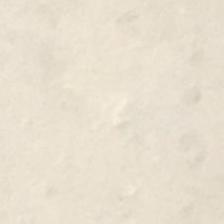Non_Crack: (17, 26, 173, 179)
